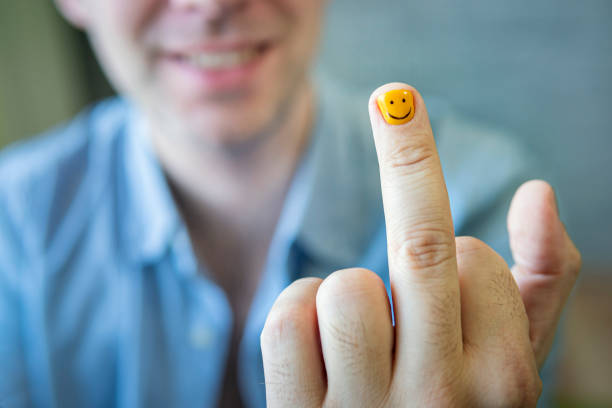insulting_gesture: (260, 79, 581, 408)
